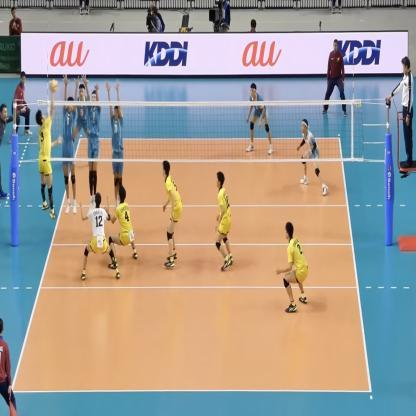spike: (35, 77, 62, 222)
